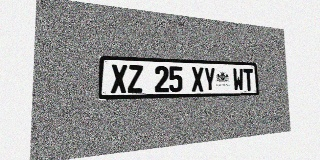2: (155, 66, 169, 92)
5: (169, 66, 183, 92)
T: (243, 68, 254, 91)
W: (233, 68, 244, 91)
X: (111, 64, 127, 93), (191, 67, 204, 92)
Y: (204, 67, 216, 91)
Z: (128, 65, 143, 93)
